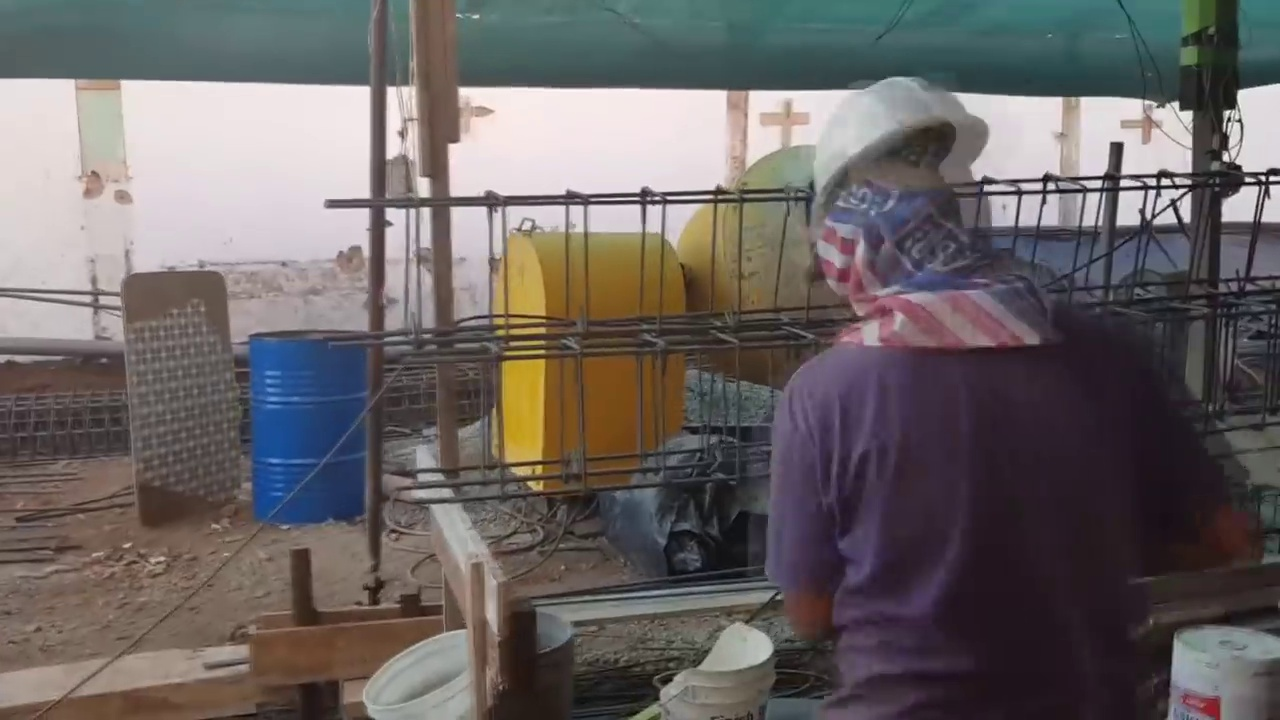helmet: (804, 69, 984, 202)
helmet-on: (800, 62, 1000, 299)
person: (763, 59, 1257, 720)
